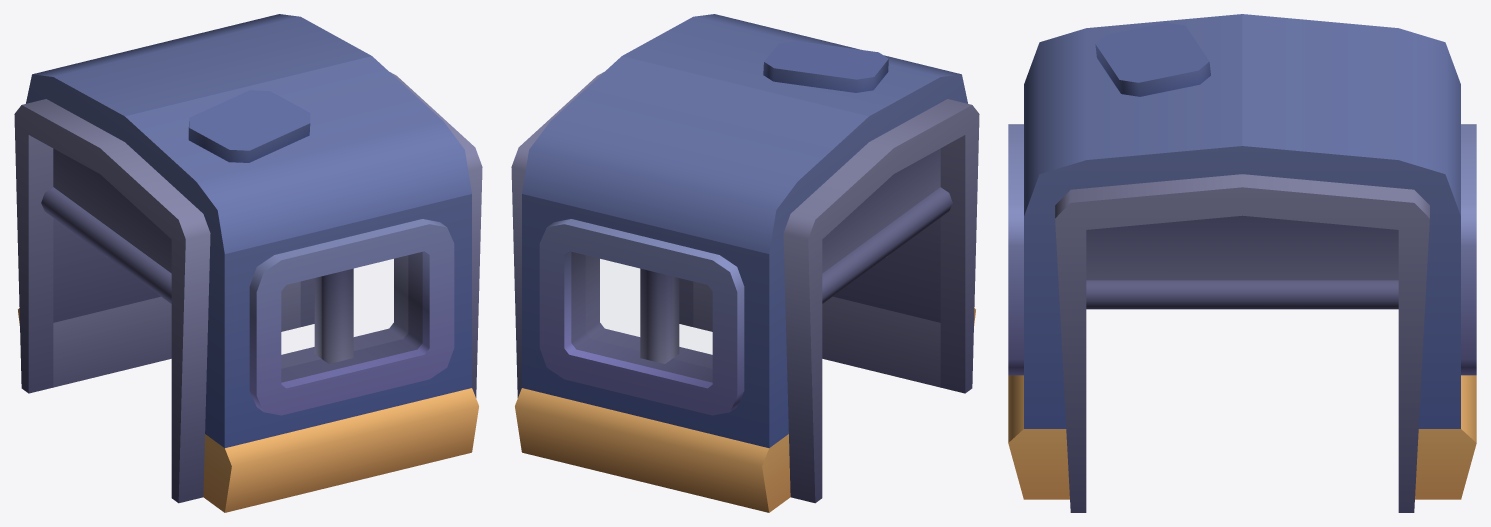
The model's file is kenney-factory-machine-window-bar.glb.
3 views of the same model, side by side, from view 1: azimuth 30°, elevation 25°; view 2: azimuth 150°, elevation 25°; view 3: azimuth 270°, elevation 25° (orthographic). The views are drawn at different scales.
Visible parts, largest first — view 1: machine-window-bar; view 2: machine-window-bar; view 3: machine-window-bar.
Boxes of the visible parts, left/top/right/bottom form: machine-window-bar: left=14, top=14, right=482, bottom=512; machine-window-bar: left=511, top=14, right=979, bottom=512; machine-window-bar: left=1008, top=14, right=1476, bottom=512.
Bounding box in the file's own units: 1.8 × 1.93 × 2.25.
2 materials, 1 textured.
